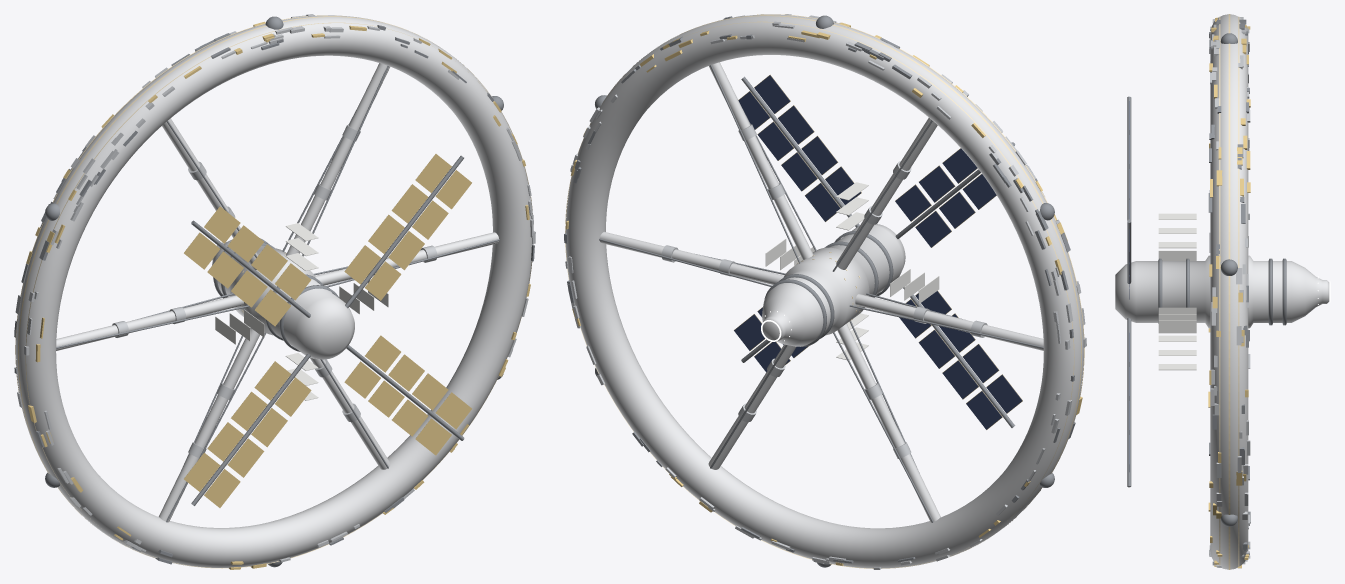
The model's file is station.fbx.
The picture shows the model from 3 angles, left to right: view 1: azimuth 30°, elevation 25°; view 2: azimuth 150°, elevation 25°; view 3: azimuth 270°, elevation 25°; orthographic projection. The views are drawn at different scales.
Visible parts, largest first — view 1: station; view 2: station; view 3: station.
Part boxes in pixels (x1=…): station: x1=14, y1=14, x2=535, y2=569; station: x1=564, y1=14, x2=1086, y2=569; station: x1=1115, y1=14, x2=1330, y2=569.
Size of the model in its own units: 322 by 330 by 125.
